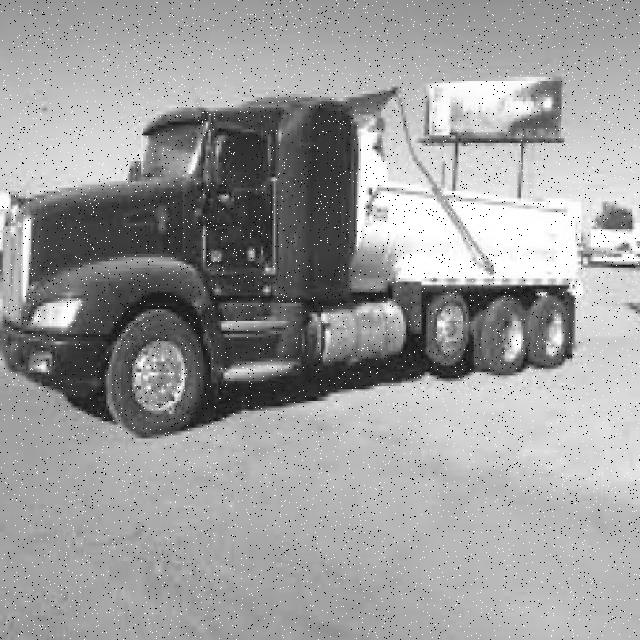Truck- Multi-Axle: (0, 87, 583, 441)
